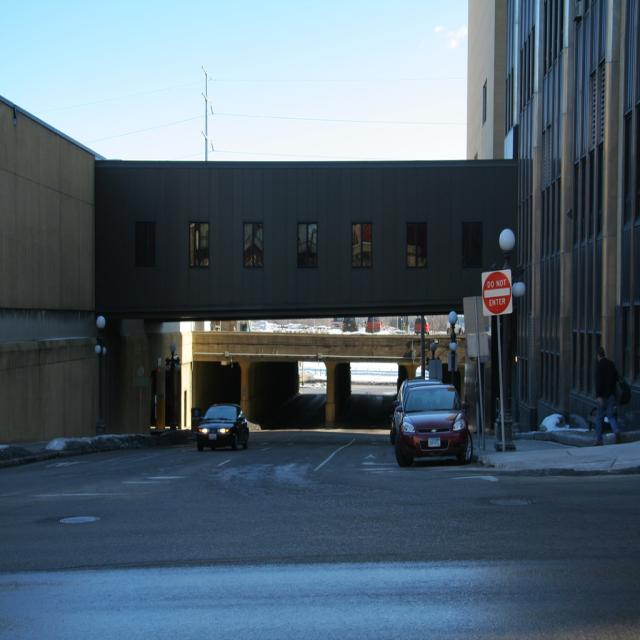car: (395, 382, 471, 463), (195, 402, 248, 448), (341, 315, 358, 329), (329, 315, 342, 328)
